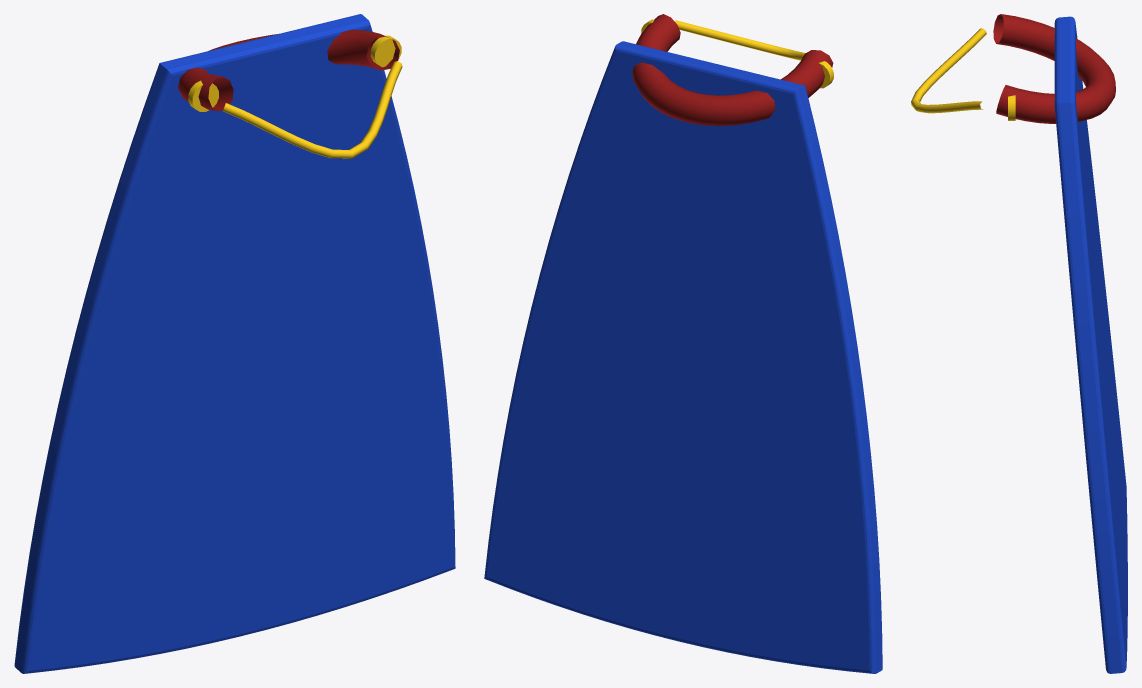
File: royal_mantle.glb
The picture shows the model from 3 angles, left to right: view 1: azimuth 30°, elevation 25°; view 2: azimuth 150°, elevation 25°; view 3: azimuth 270°, elevation 25°; orthographic projection. The views are drawn at different scales.
Parts seen in each view (by area): view 1: cape_cloth, cape_collar, shoulder_chain, clasp_1; view 2: cape_cloth, cape_collar, shoulder_chain; view 3: cape_cloth, cape_collar, shoulder_chain.
Boxes of the visible parts, x1,y1,x2,y2 form: cape_cloth: [14, 14, 455, 673]; cape_collar: [178, 29, 399, 111]; shoulder_chain: [223, 61, 402, 158]; clasp_1: [370, 35, 401, 67]; cape_cloth: [484, 41, 882, 673]; cape_collar: [632, 14, 833, 125]; shoulder_chain: [675, 20, 805, 60]; cape_cloth: [1054, 16, 1127, 673]; cape_collar: [993, 14, 1115, 123]; shoulder_chain: [911, 28, 986, 113].
Bounding box in the file's own units: 0.797 × 1.1 × 0.3963.
